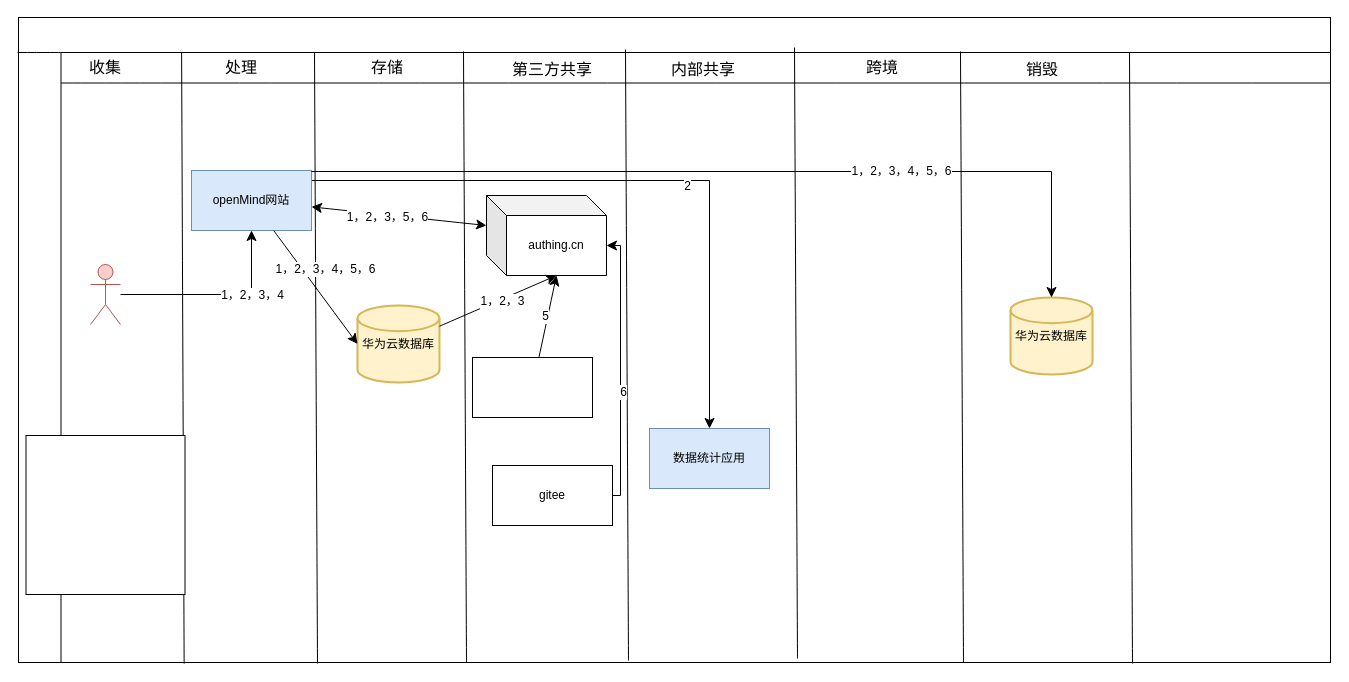
Image size: 1349x682. Some labels were removed from this diagram. The shapes that lost their labels are listed below. From the top down, each one's box as (x1, y1, x2, y2) in pixels, then its label:
(90, 264, 120, 324): 用户
(472, 356, 592, 418): github
(25, 434, 185, 594): 个人数据： 1. 手机号 2. 邮箱 3. 用户名 4. 昵称 5. github用户ID，昵称，头像 6. gitee用户ID，昵称，头像
